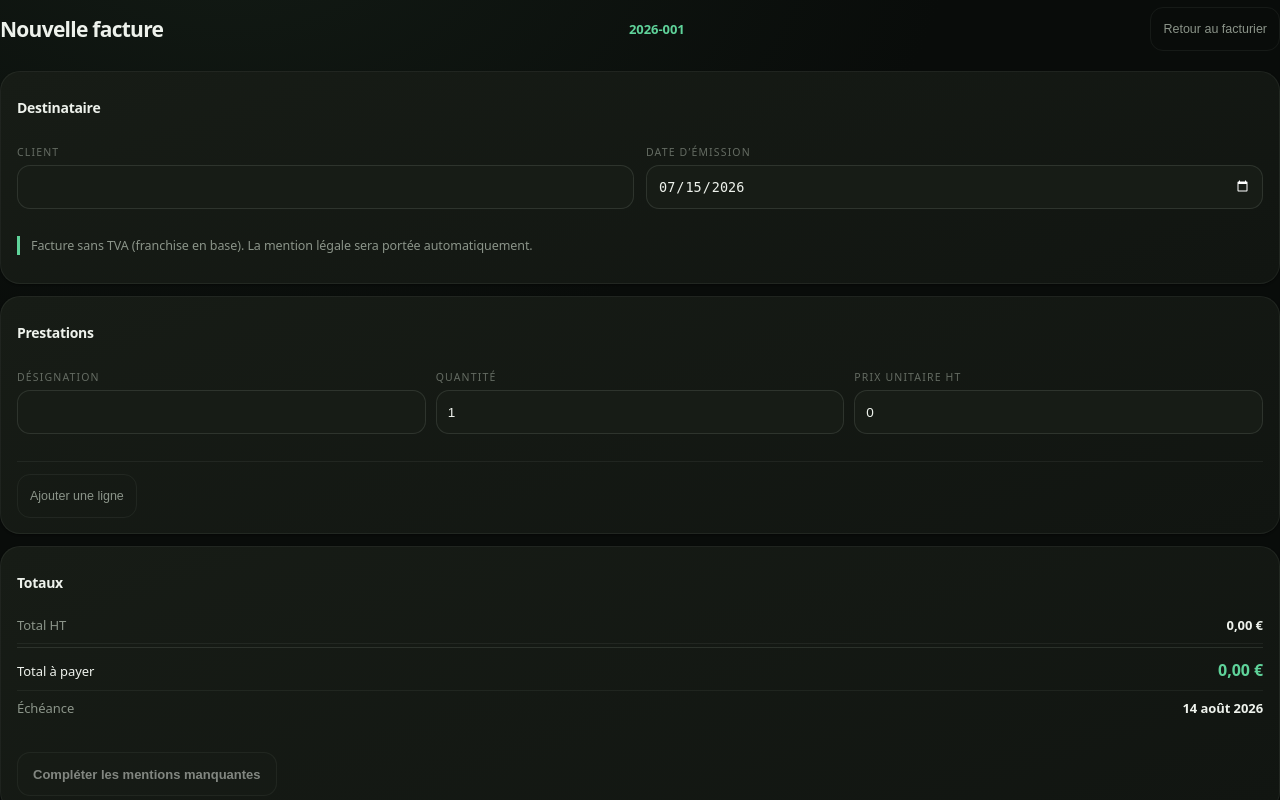
Test: mentions obligatoires › constate les manques dès que la saisie commence
This screenshot has width=1280, height=800.
In the field labelled "Client": (326, 187) [17,165,634,209], type "Client France"
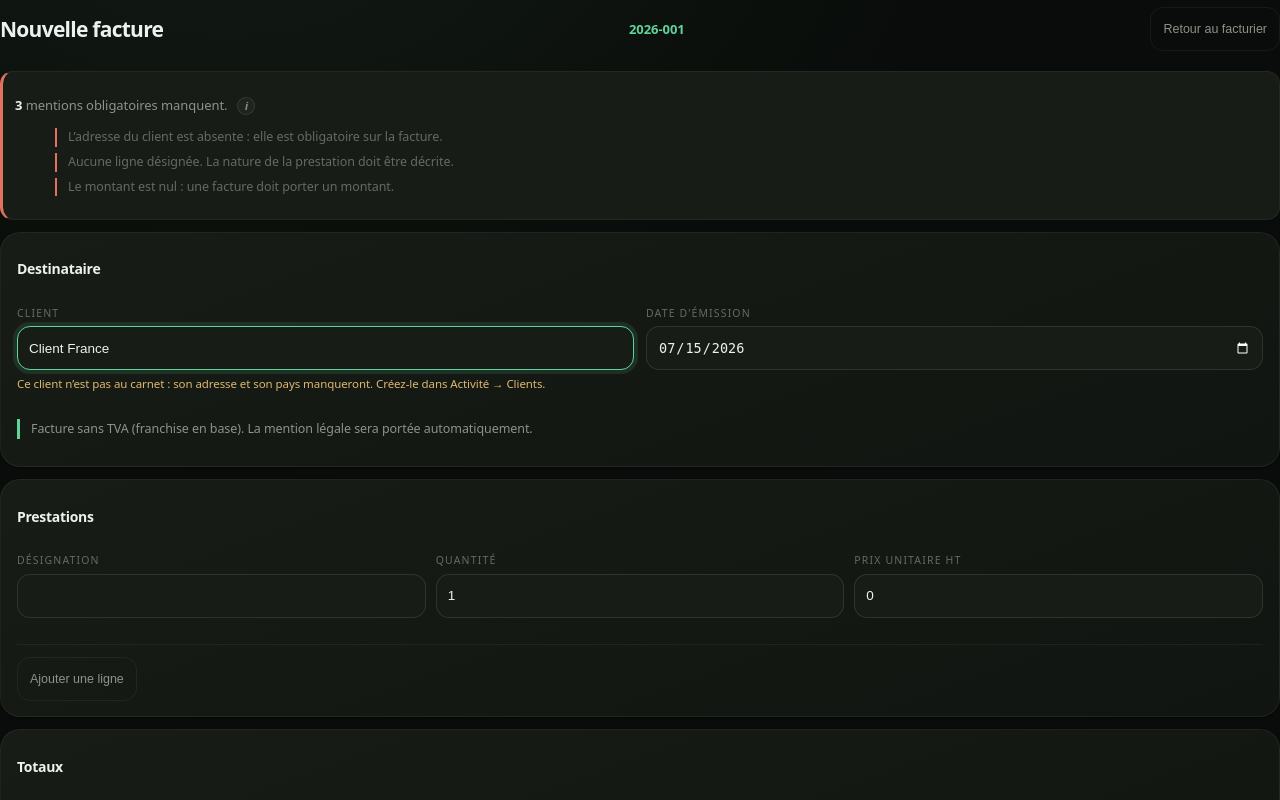
Now the text "3 mentions obligatoires manquent." is shown, box [15,96,227,114]
